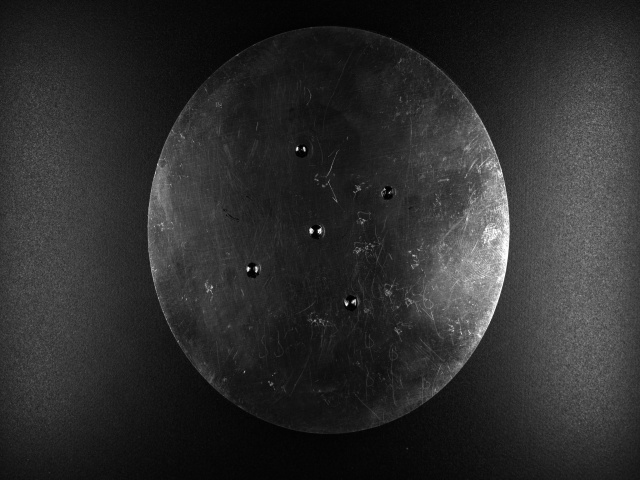zhen_kong: (292, 136, 314, 162), (337, 291, 360, 312), (307, 220, 328, 242), (378, 184, 400, 203), (242, 261, 263, 279)
